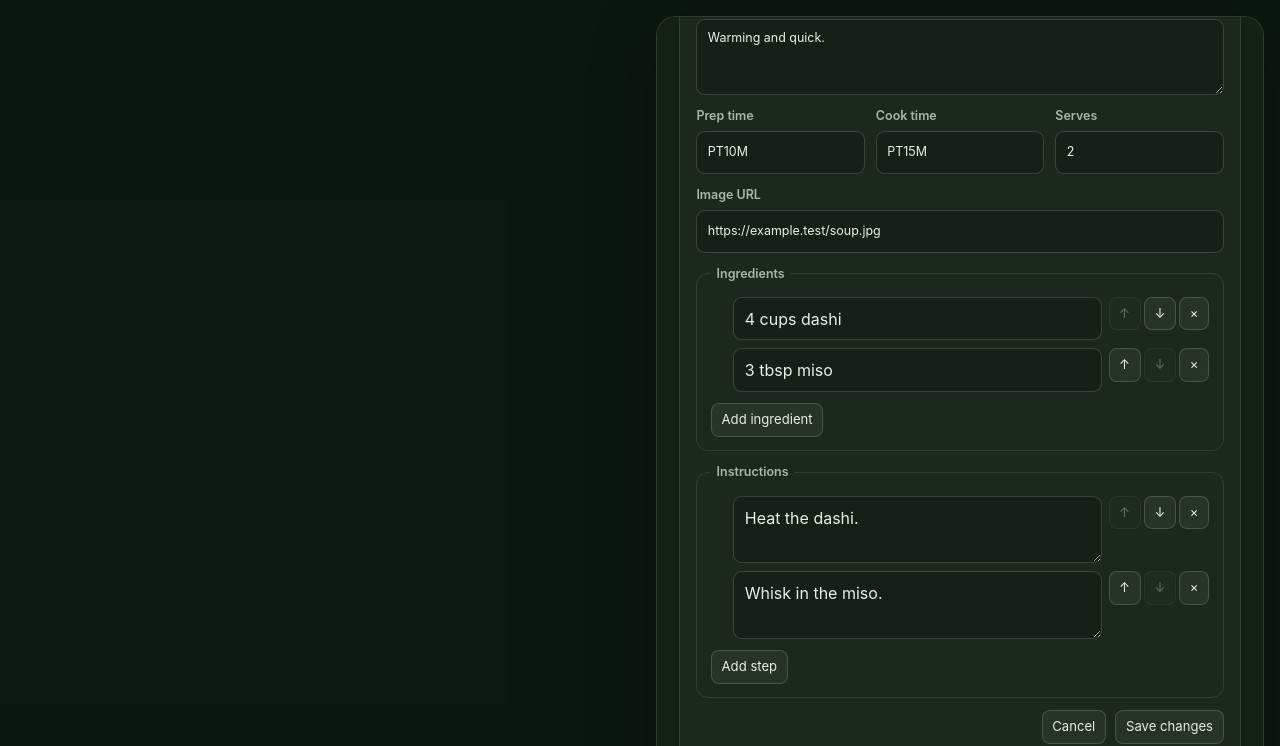
Test: RecipeEditor › surfaces a failed save instead of closing silently
(page scrolled)
Click the button "Save changes". click: {"x": 1170, "y": 727}
box: [1115, 710, 1224, 744]
(page scrolled)
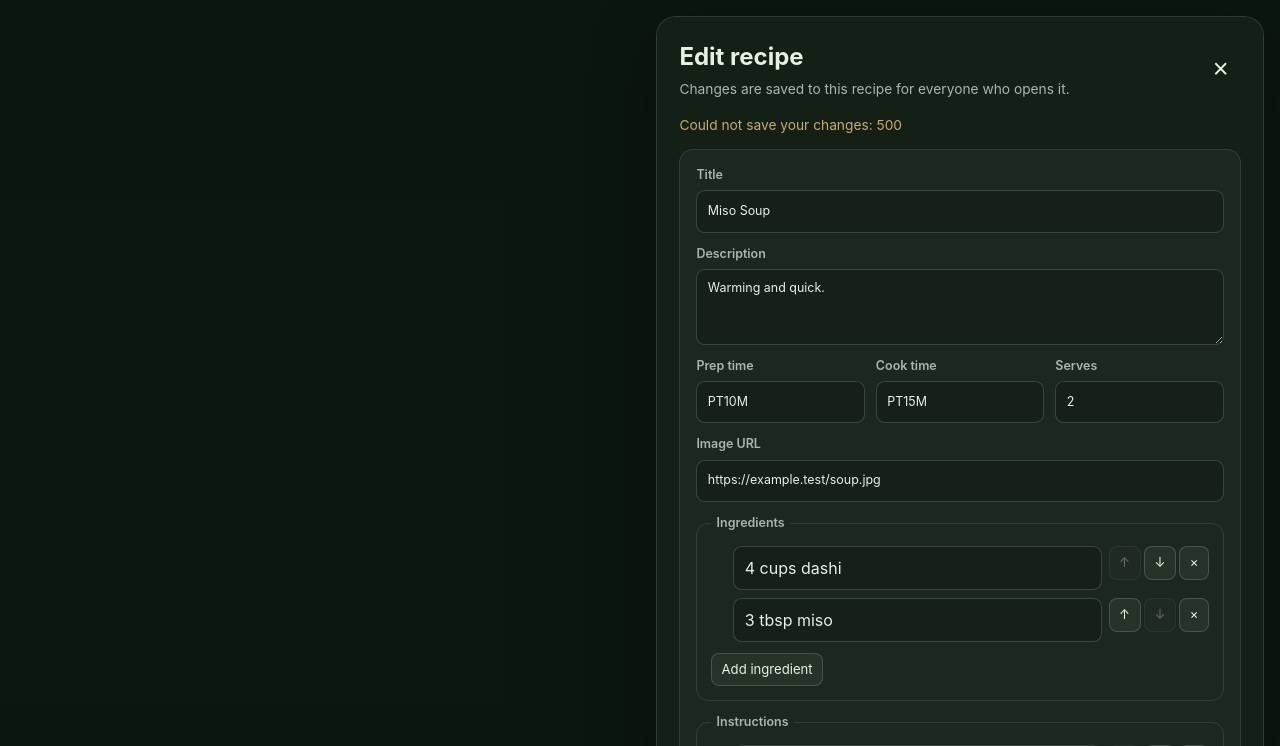
Now the message reads "Could not save your changes: 500", box [679, 118, 902, 134]
